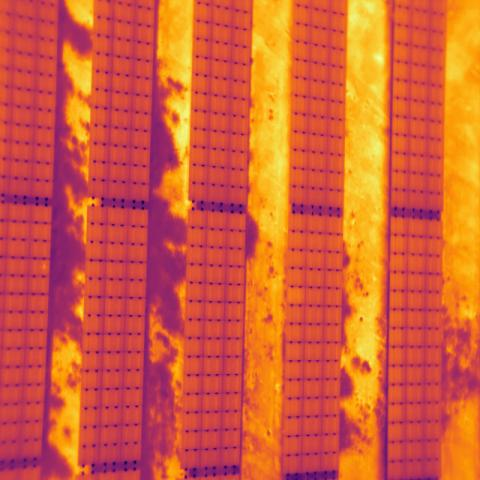fault: (286, 285, 306, 307)
